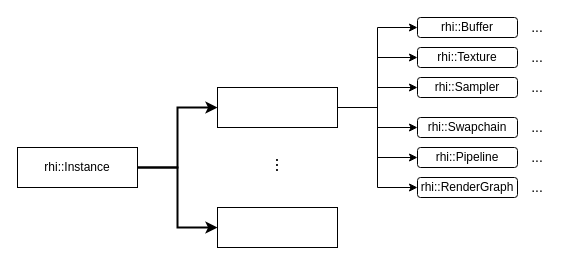
Image size: 575x265. Some labels were removed from this diagram. Each missing label, with the centre of its shape:
"rhi::Device [0]" goes at (277,107).
"rhi::Device [n - 1]" goes at (277,227).
